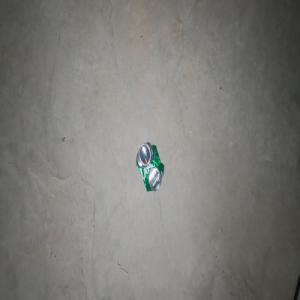SodaCan: (135, 141, 164, 191)
